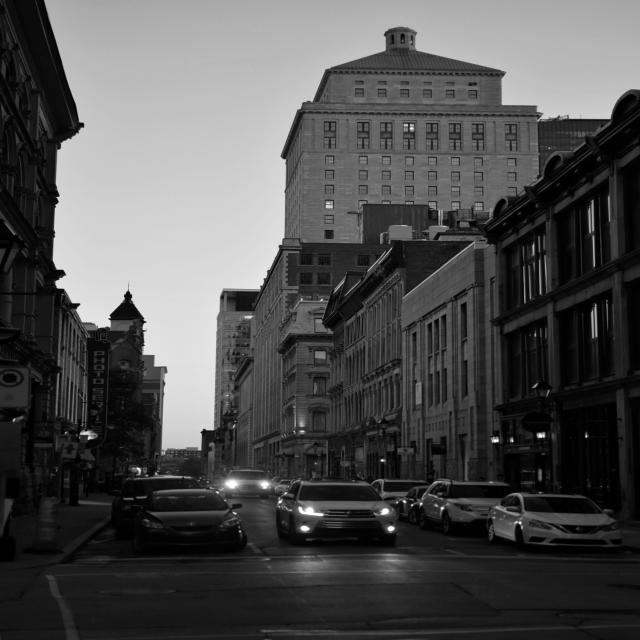car: (276, 478, 398, 546), (487, 492, 623, 552), (134, 488, 246, 551), (418, 479, 518, 535), (110, 476, 206, 526), (370, 478, 431, 507), (224, 467, 270, 498)
